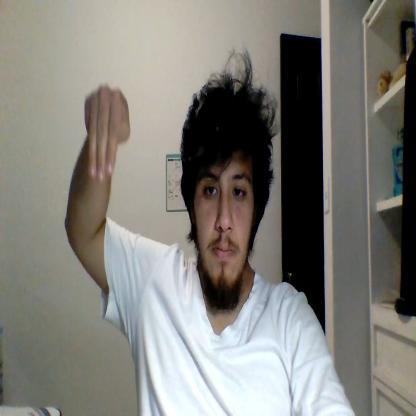M: (84, 84, 130, 182)
